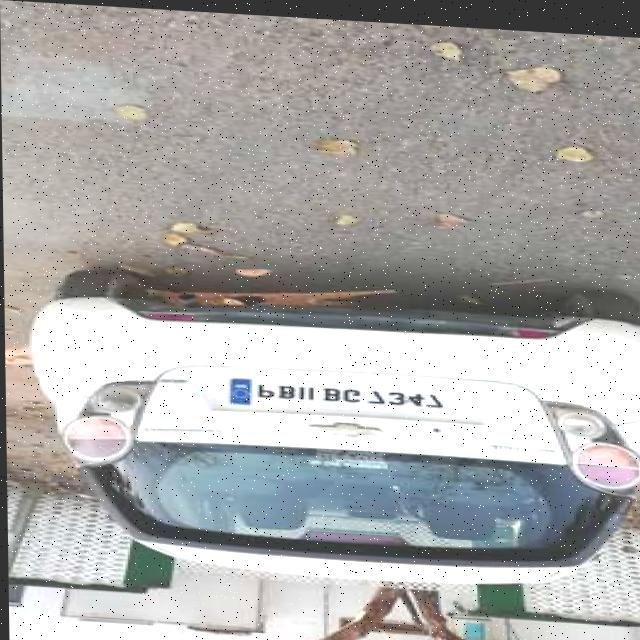plate: (224, 371, 452, 413)
